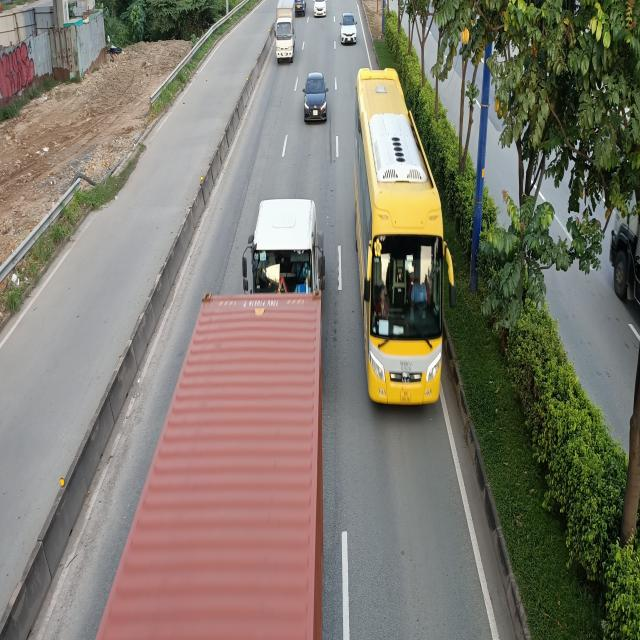car: (303, 73, 329, 124), (342, 12, 359, 42)
coach: (358, 70, 453, 412)
container: (96, 292, 325, 640), (237, 198, 325, 299)
truck: (272, 1, 296, 63)
